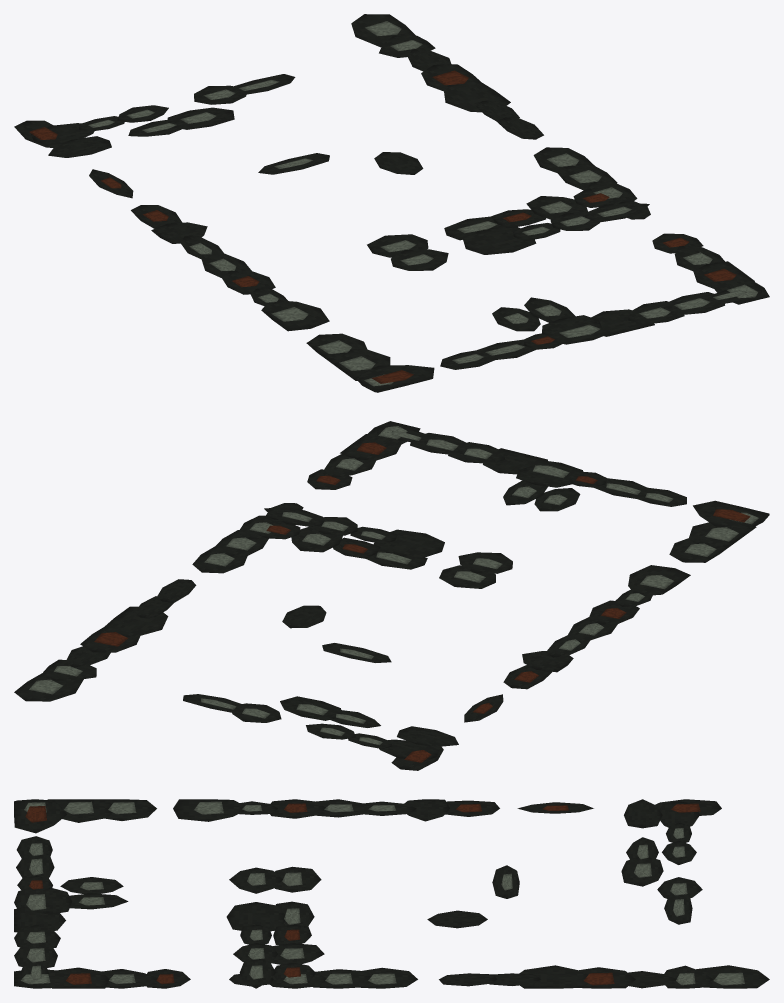
Rendered from THStage_RuinGroundFragments.fbx.
3 renders of one model, top to bottom at view 1: azimuth 30°, elevation 25°; view 2: azimuth 150°, elevation 25°; view 3: azimuth 270°, elevation 25°, orthographic. The views are drawn at different scales.
Parts seen in each view (by area): view 1: THStage_RuinGroundFragments.004; view 2: THStage_RuinGroundFragments.004; view 3: THStage_RuinGroundFragments.004.
Part boxes in pixels (left/top/right/bottom): THStage_RuinGroundFragments.004: left=14, top=14, right=769, bottom=392; THStage_RuinGroundFragments.004: left=14, top=421, right=769, bottom=770; THStage_RuinGroundFragments.004: left=14, top=799, right=769, bottom=988.
Bounding box in the file's own units: 4.99 × 0.00211 × 8.41.
Materials: 1 (1 with a texture image).
